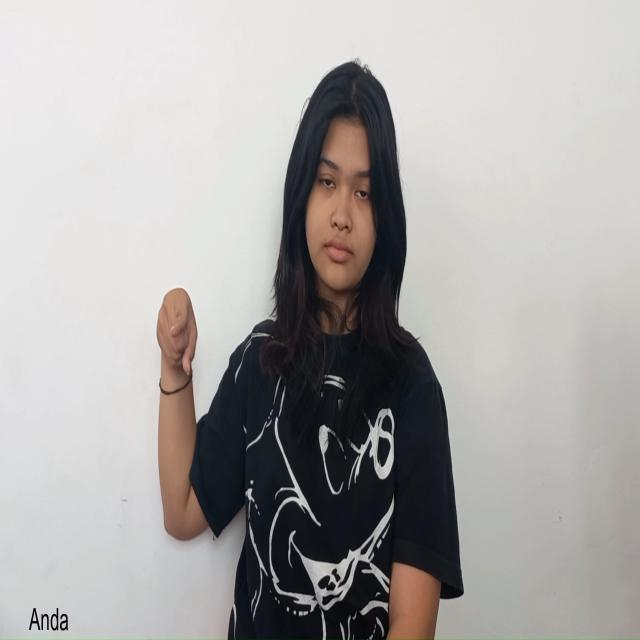Anda -BISINDO-: (155, 284, 199, 382)
